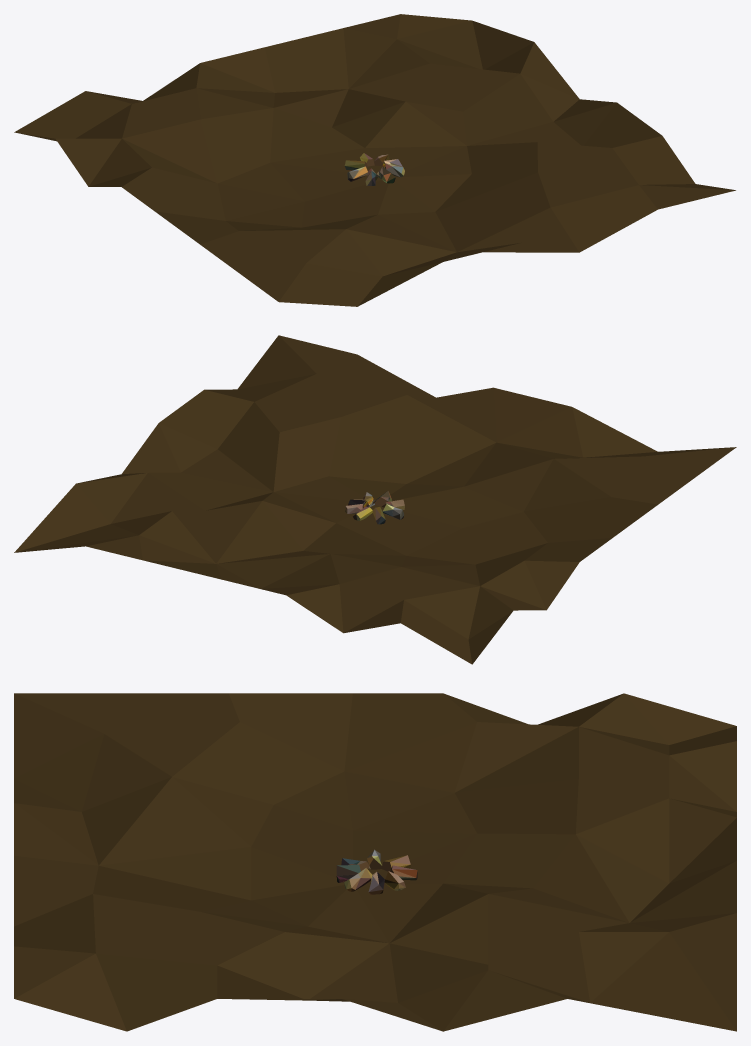
The model's file is simple-landscape.glb.
3 renders of one model, top to bottom at view 1: azimuth 30°, elevation 25°; view 2: azimuth 150°, elevation 25°; view 3: azimuth 270°, elevation 25°, orthographic. The views are drawn at different scales.
Visible parts, largest first — view 1: ground, campfire; view 2: ground, campfire; view 3: ground, campfire.
Boxes of the visible parts, box(x1,y1,x2,y2) form: ground: box(14, 14, 735, 306); campfire: box(344, 153, 404, 185); ground: box(14, 335, 736, 664); campfire: box(345, 491, 404, 524); ground: box(14, 693, 736, 1031); campfire: box(336, 849, 417, 894).
Bounding box in the file's own units: 20.06 × 1.37 × 20.06.
2 materials, 1 textured.
